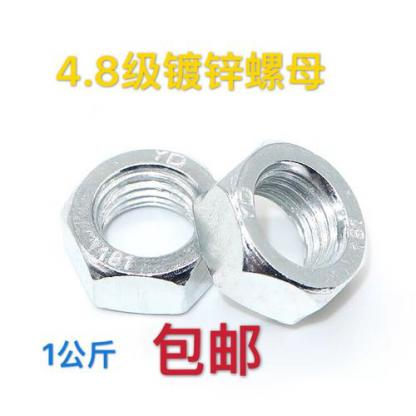FOD: (191, 134, 371, 329), (60, 143, 224, 318)
